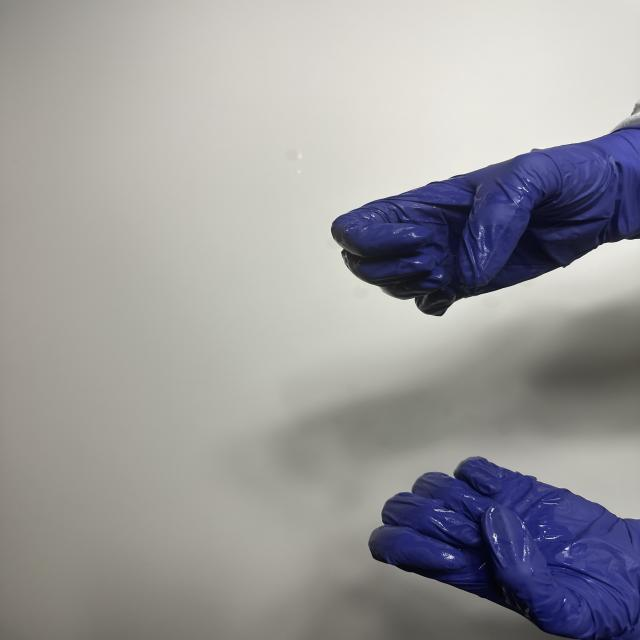gloves_contaminated: (331, 118, 640, 316), (370, 457, 640, 640)
